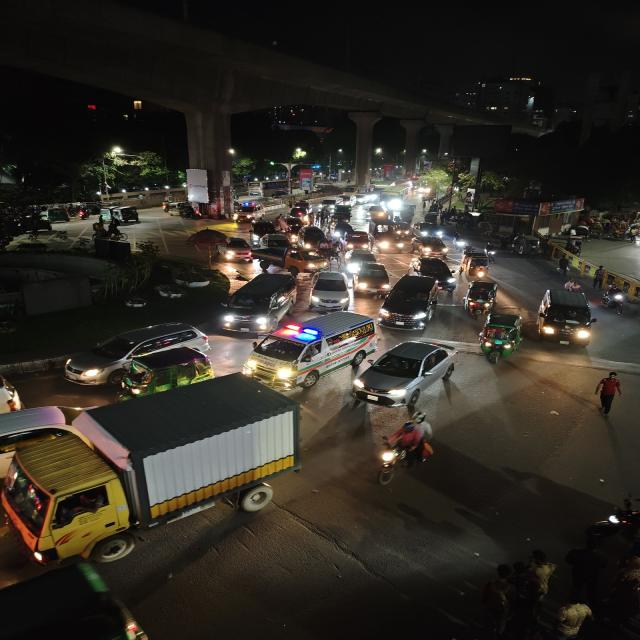bus: (248, 181, 287, 198), (379, 188, 407, 208)
car: (243, 310, 380, 389), (54, 320, 213, 388), (354, 337, 460, 410), (214, 273, 299, 333), (533, 286, 598, 348), (378, 274, 443, 330), (306, 270, 352, 312), (414, 256, 458, 290), (354, 262, 392, 295), (216, 235, 254, 263), (371, 224, 405, 253), (411, 235, 451, 257), (230, 202, 266, 222), (413, 220, 444, 238), (366, 206, 387, 222)
cng: (117, 347, 214, 398), (474, 311, 527, 364), (464, 280, 502, 316), (462, 250, 492, 282), (510, 234, 542, 260), (299, 226, 327, 252), (108, 205, 144, 225), (247, 220, 278, 242), (47, 208, 73, 225), (331, 205, 354, 221), (394, 221, 412, 239)
motorcycle: (370, 410, 440, 488), (603, 285, 628, 313)
pedestrian: (478, 545, 558, 639), (544, 600, 598, 640), (590, 368, 628, 422), (556, 255, 574, 276), (593, 264, 607, 289)
pickup_van: (252, 243, 327, 274), (343, 229, 373, 253)
rickshaw: (315, 240, 345, 266), (626, 225, 640, 247), (570, 226, 592, 240)
truck: (0, 377, 314, 571)
